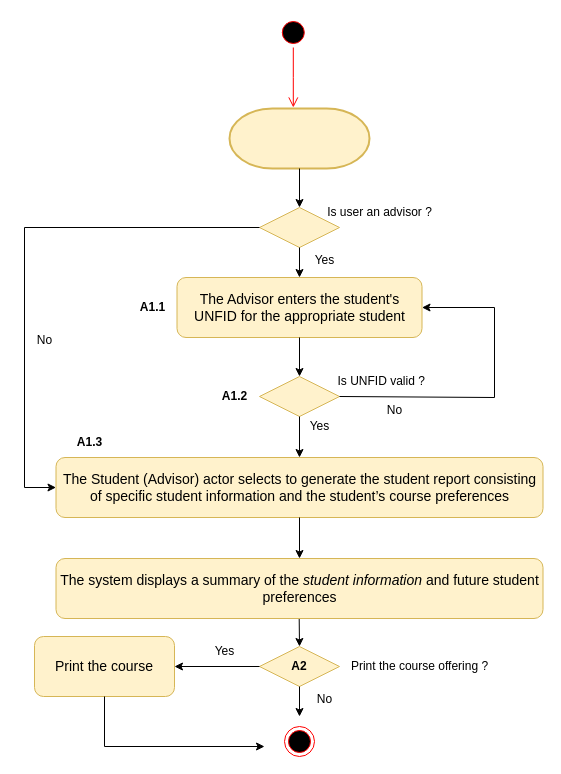
Some shapes in this 561 by 774 pixel diagram are drawn without their labels. Each missing label, with the centre of its shape:
"E1" belongs at (x=299, y=396).
"Perform Login Authentication" belongs at (x=299, y=138).
